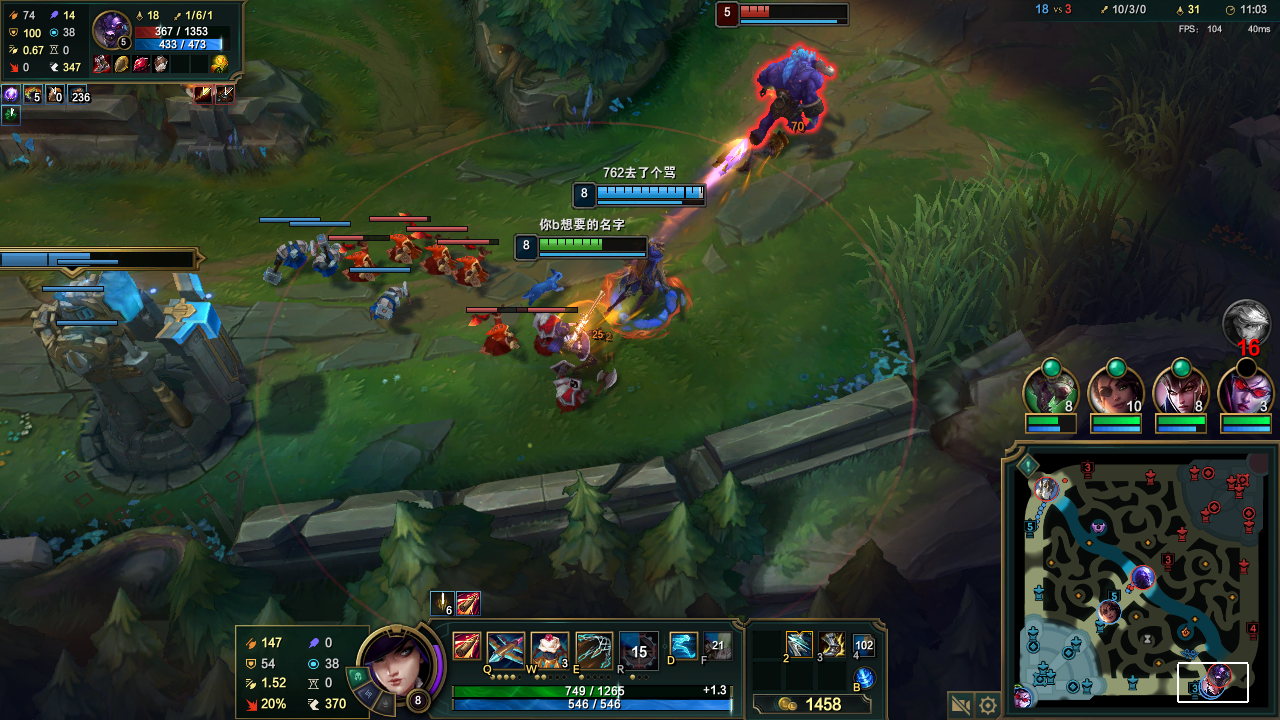DFXB: (452, 254, 493, 287), (532, 317, 568, 354), (384, 227, 420, 259), (480, 323, 510, 350), (354, 255, 379, 281), (424, 247, 449, 271)
DFYX: (738, 5, 843, 18)
WFXB: (270, 242, 305, 269), (369, 288, 405, 312), (308, 239, 334, 270)
